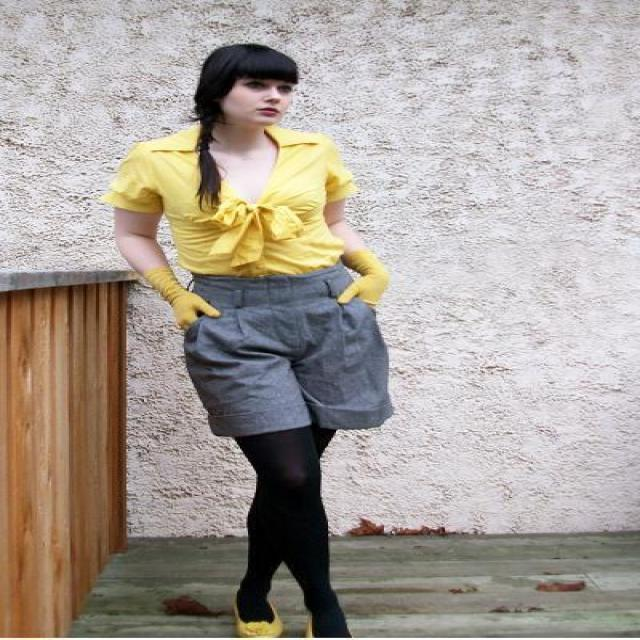jacket: (110, 124, 350, 276)
shoe: (312, 610, 350, 637)
shorts: (179, 254, 402, 438)
